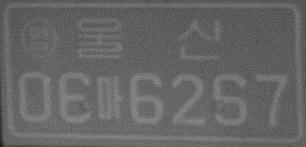0: (16, 70, 51, 122)
2: (170, 72, 206, 126)
6: (127, 70, 163, 126), (57, 70, 94, 124), (213, 73, 248, 126)
7: (253, 72, 288, 126)
아: (95, 75, 125, 121)
영: (20, 18, 59, 58)
울산_D: (74, 17, 223, 61)
